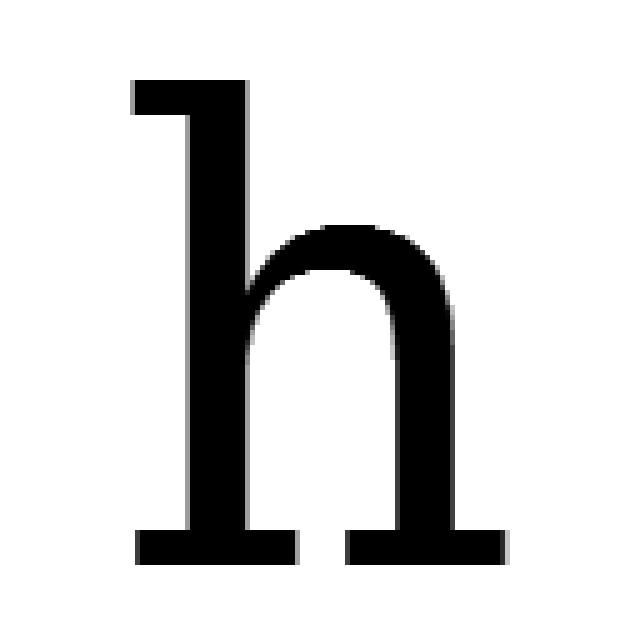H: (130, 80, 505, 565)
